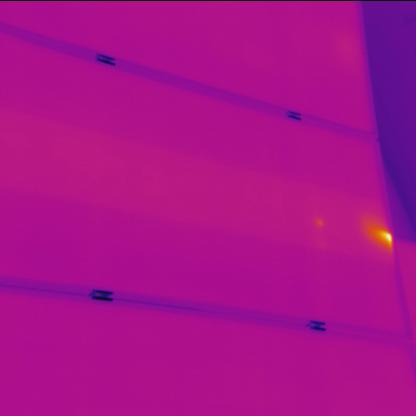hotspot: (370, 220, 394, 254)
